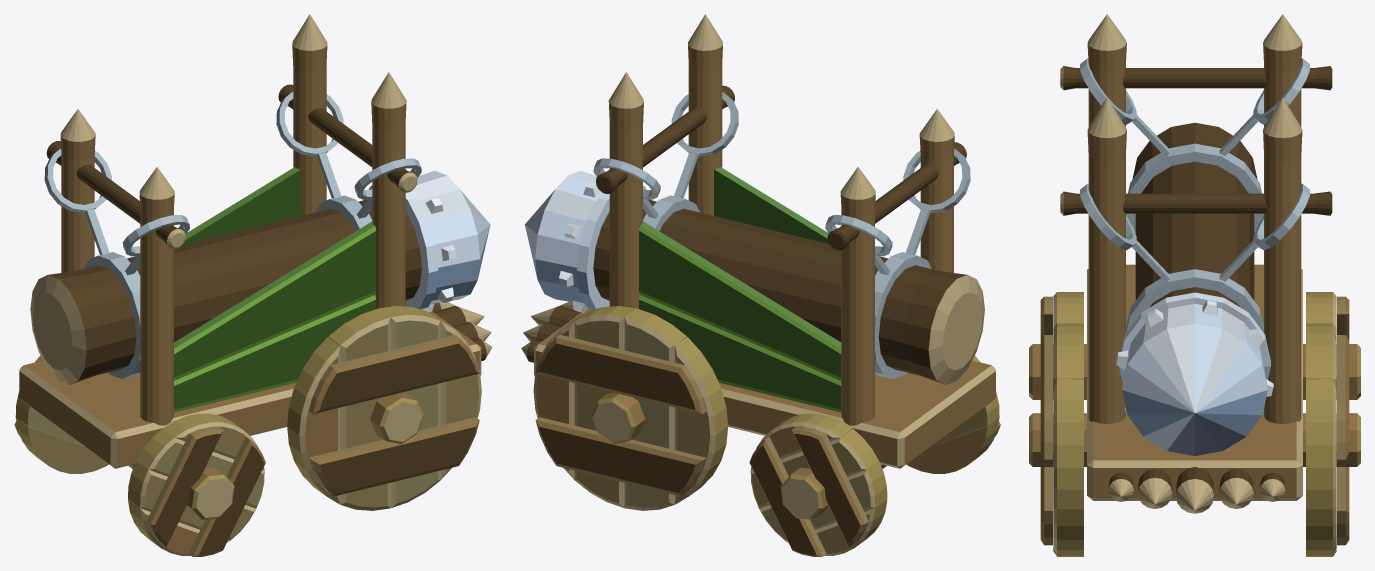
The model's file is Runestrife-Enemy-Ram.fbx.
The picture shows the model from 3 angles, left to right: view 1: azimuth 30°, elevation 25°; view 2: azimuth 150°, elevation 25°; view 3: azimuth 270°, elevation 25°; orthographic projection. The views are drawn at different scales.
Visible parts, largest first — view 1: Ram, Wheels Front, Wheels Back; view 2: Ram, Wheels Front, Wheels Back; view 3: Ram, Wheels Front, Wheels Back.
Part boxes in pixels (x1,y1,x2,y2): Ram: (19,14,492,468); Wheels Front: (287,306,481,510); Wheels Back: (14,355,265,556); Ram: (521,14,995,468); Wheels Front: (533,306,728,510); Wheels Back: (749,355,1000,556); Ram: (1060,14,1332,513); Wheels Front: (1029,323,1360,556); Wheels Back: (1029,292,1360,399).
Size of the model in its own units: 19073 by 29211 by 32259.
